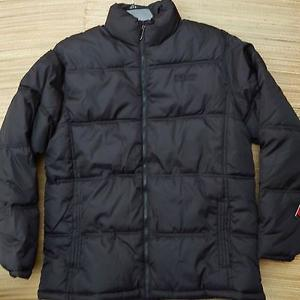C_jacket: (2, 2, 299, 300)
